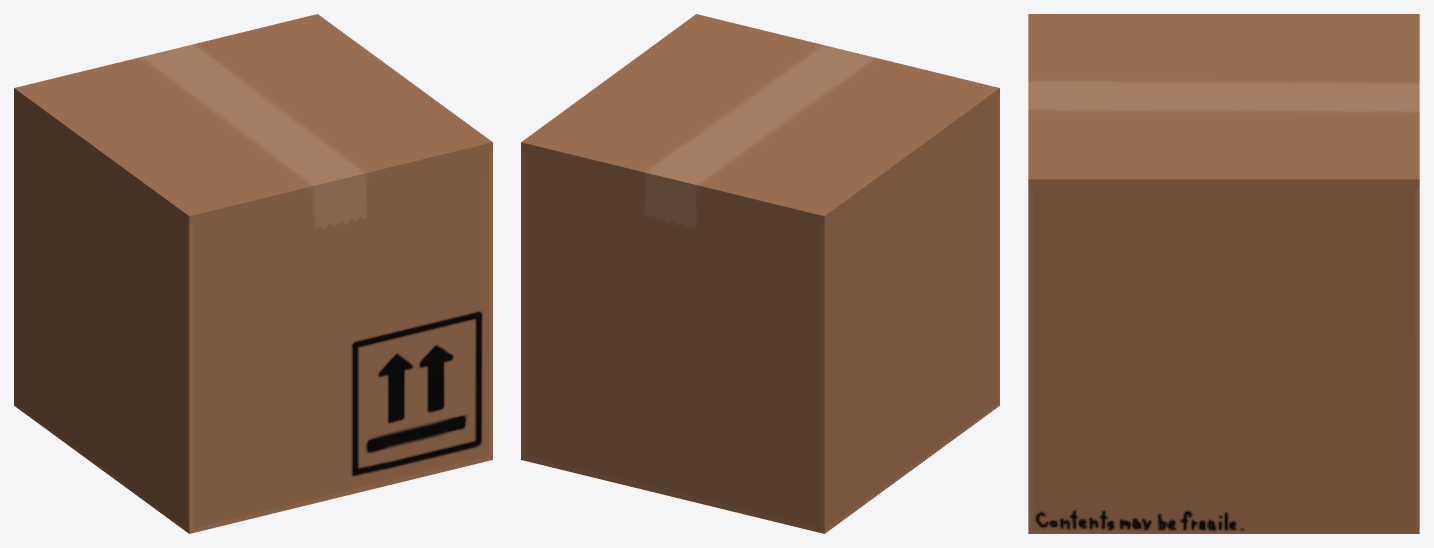
3 views of the same model, side by side, from view 1: azimuth 30°, elevation 25°; view 2: azimuth 150°, elevation 25°; view 3: azimuth 270°, elevation 25° (orthographic). The views are drawn at different scales.
Visible parts, largest first — view 1: box, box flap l, box flap r; view 2: box, box flap l, box flap r; view 3: box, box flap r, box flap l.
Part boxes in pixels (x1,y1,x2,y2): box: [14, 96, 492, 533]; box flap l: [14, 51, 340, 224]; box flap r: [166, 14, 492, 186]; box: [521, 96, 999, 533]; box flap l: [673, 51, 999, 224]; box flap r: [521, 14, 847, 186]; box: [1028, 188, 1419, 533]; box flap r: [1028, 96, 1419, 188]; box flap l: [1028, 14, 1419, 96].
Size of the model in its own units: 100 by 100 by 100.
